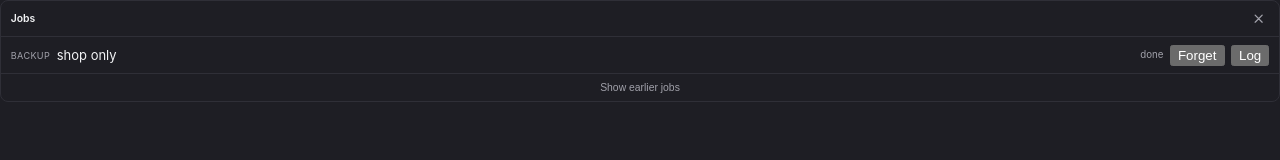
Test: the jobs panel › stops offering earlier jobs when there are none
Expected: the text "shop only" is shown, [57,47,117,63]
Click the button "Show earlier jobs" at x=640, y=88, box [590,74,690,101]
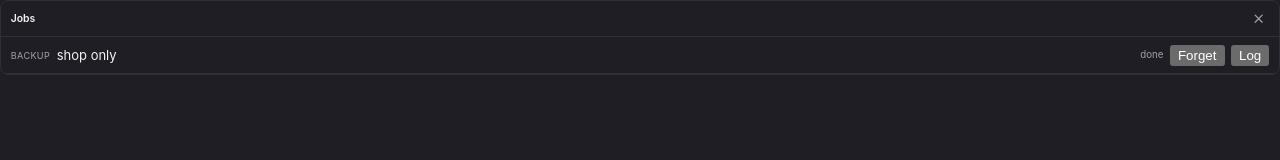
Expected: the button "Show earlier jobs" is gone
